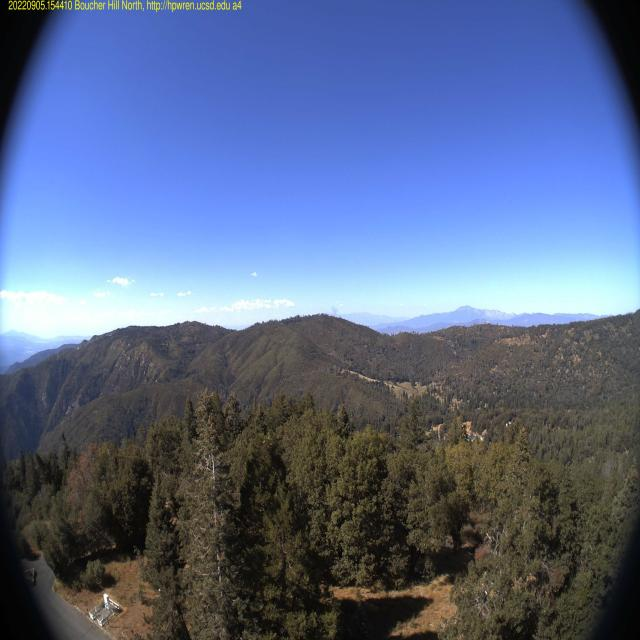smoke: (329, 302, 339, 318)
